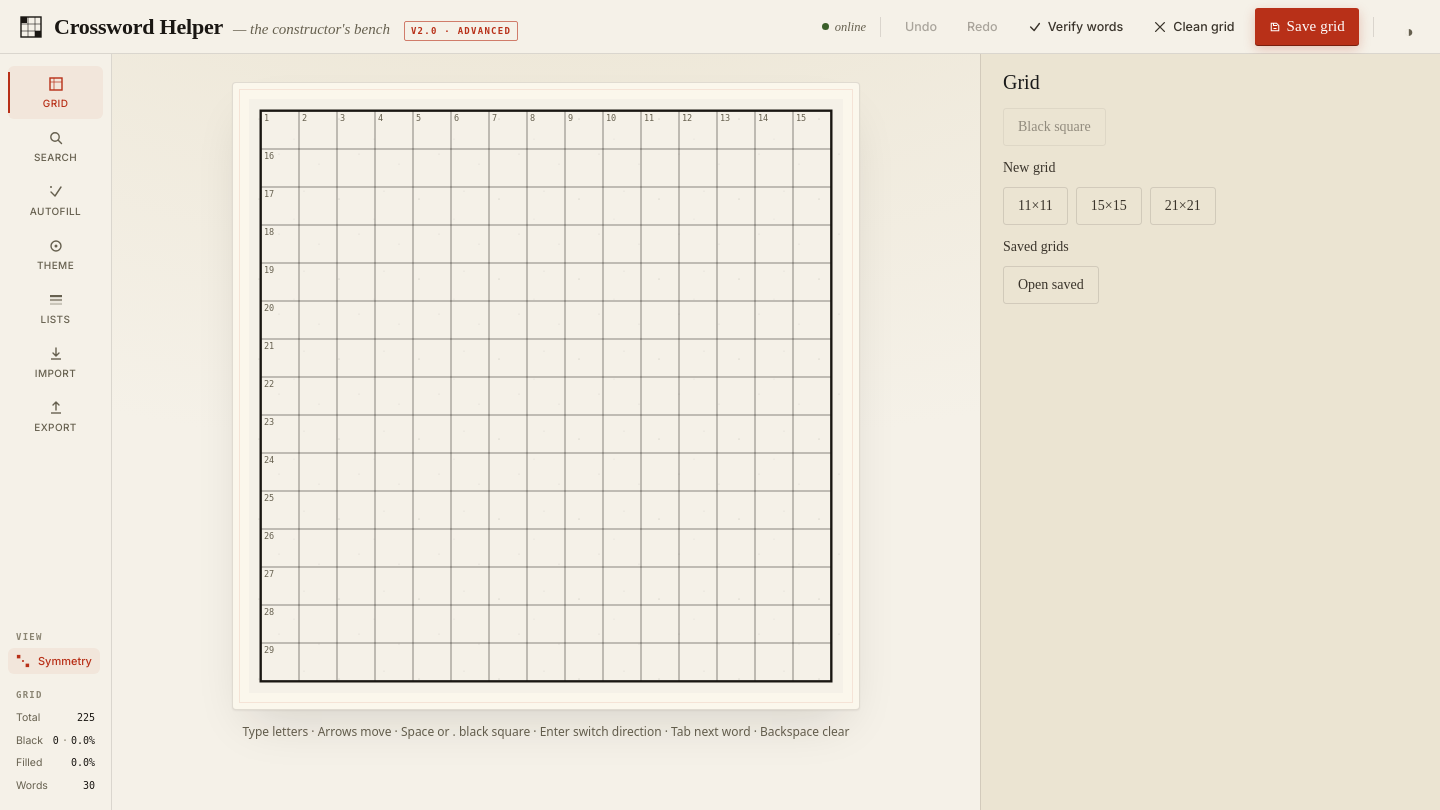
it: App D1 gate: async Verify and Clean › Verify and Clean make no request when a run is already live (pre-request return)
Expected: the button "Verify words" is enabled, [1018,13,1133,40]
Click the button "Autofill". click: [56, 200]
box: [8,174,103,227]
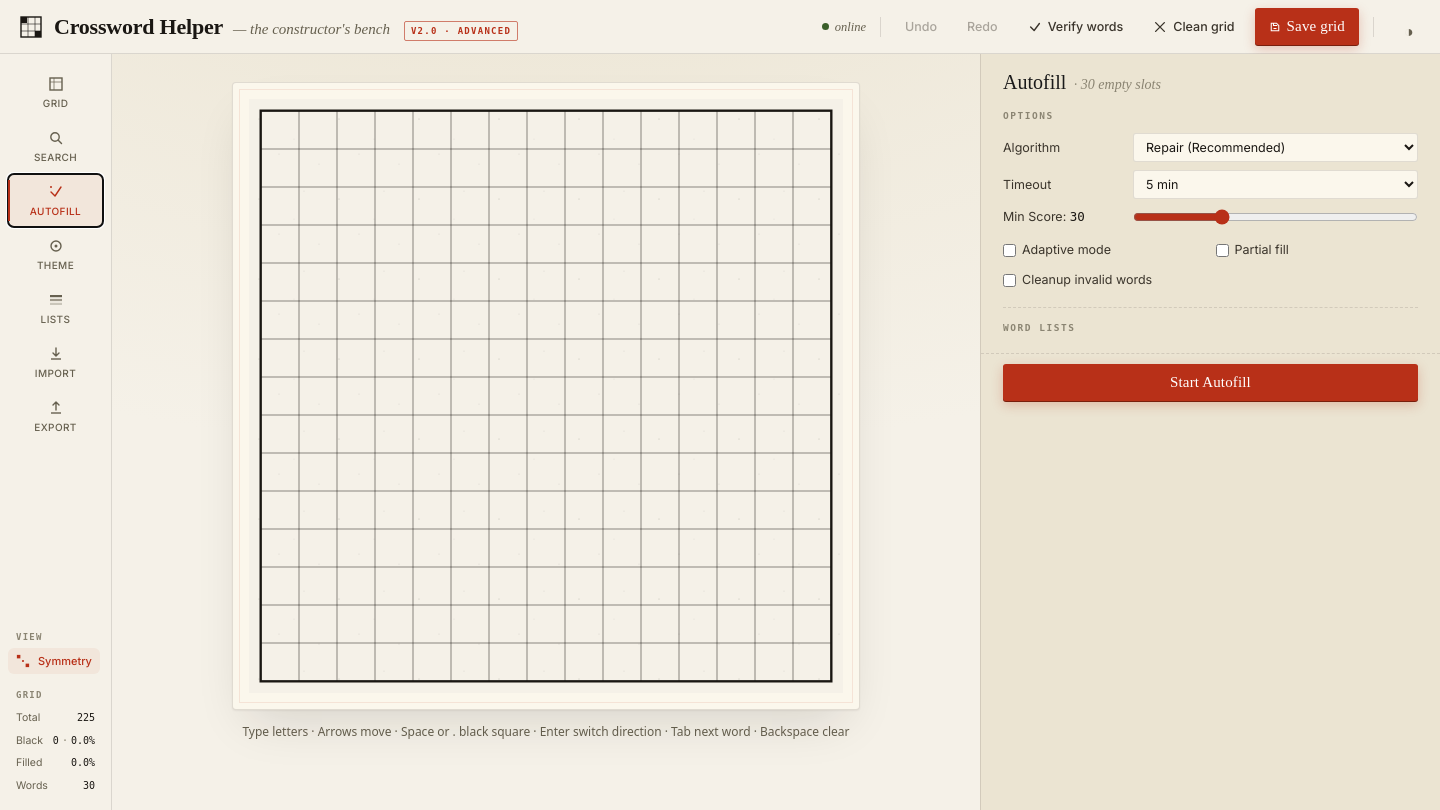
Click the button "Start Autofill". click: [1210, 383]
box: [1003,364,1418,401]
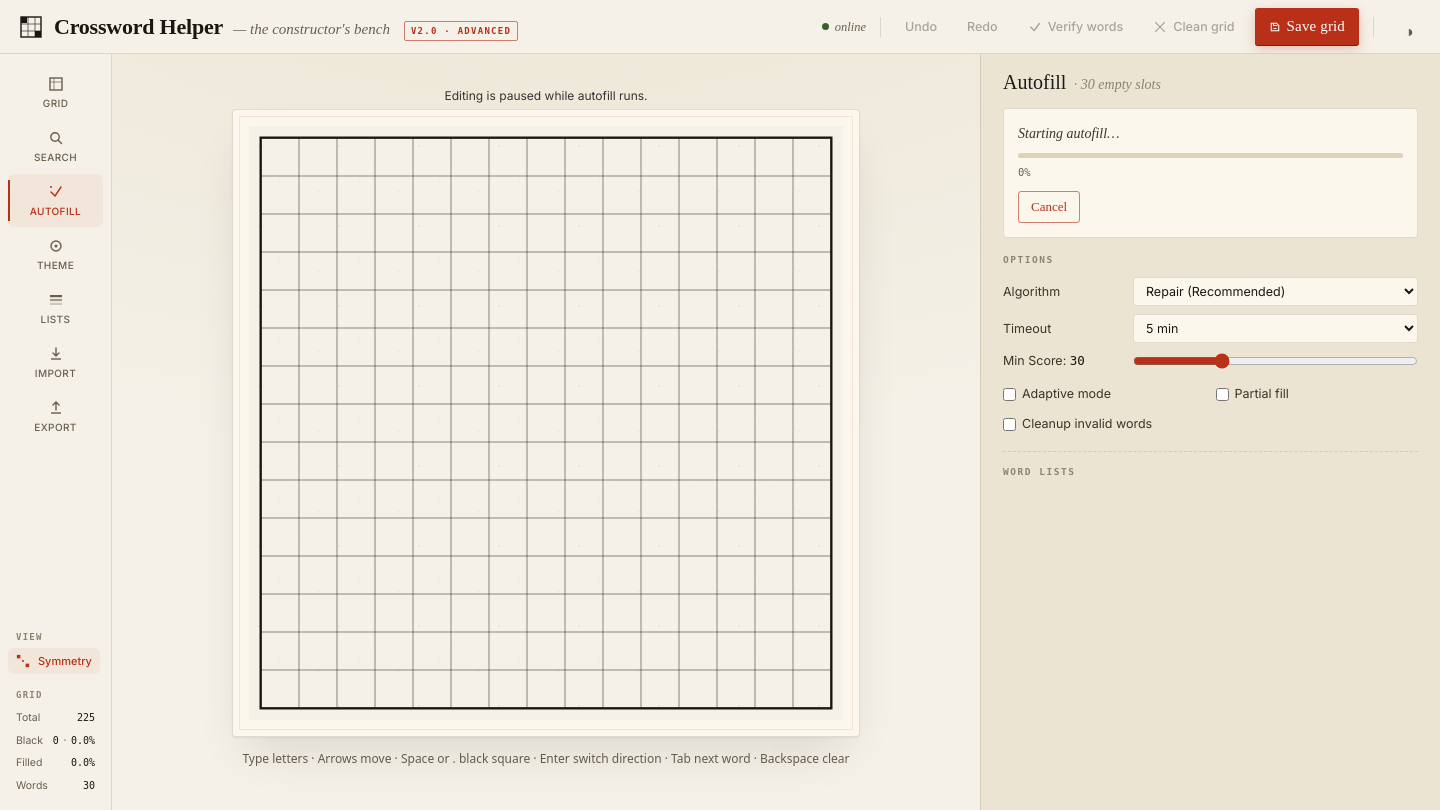
Result: the text "Editing is paused while autofill runs." is shown at [444,88,648,103]
